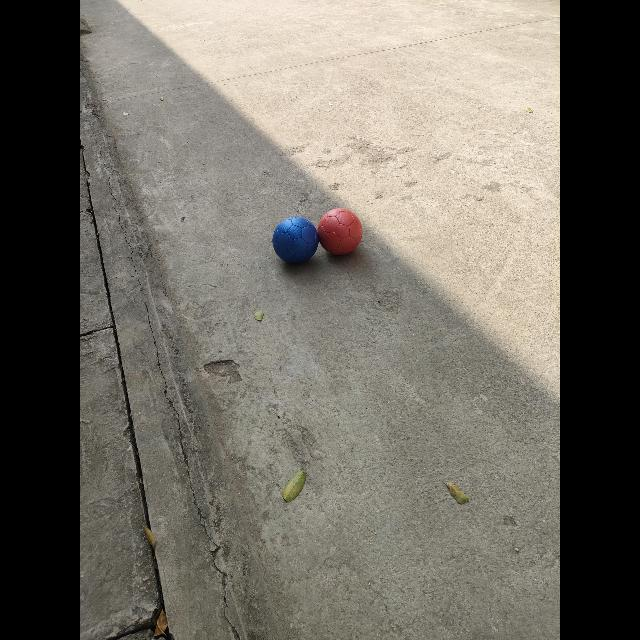B: (272, 216, 319, 264)
R: (318, 209, 362, 255)
